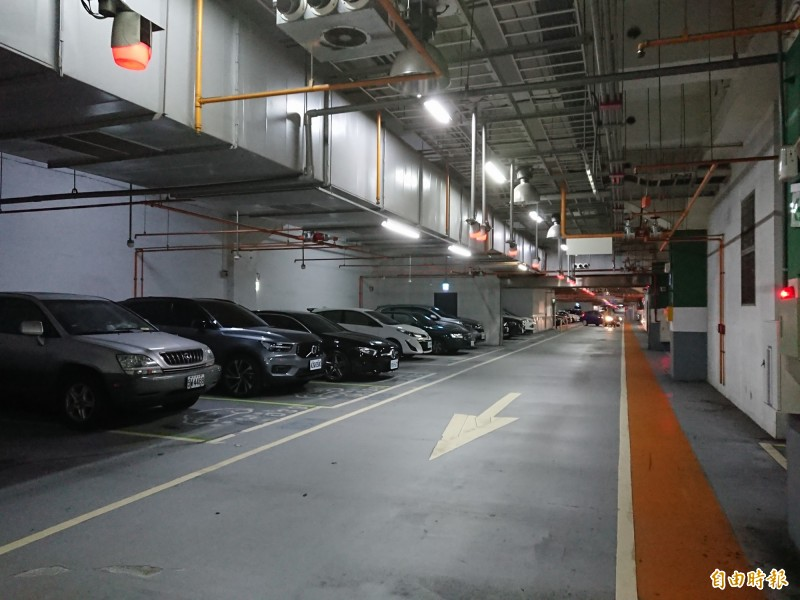car: (3, 288, 222, 431), (204, 291, 329, 399), (305, 313, 401, 382), (431, 312, 489, 356), (370, 322, 432, 357)
